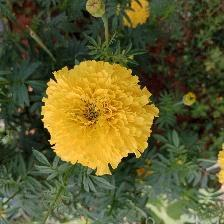marigold: (40, 59, 161, 180)
